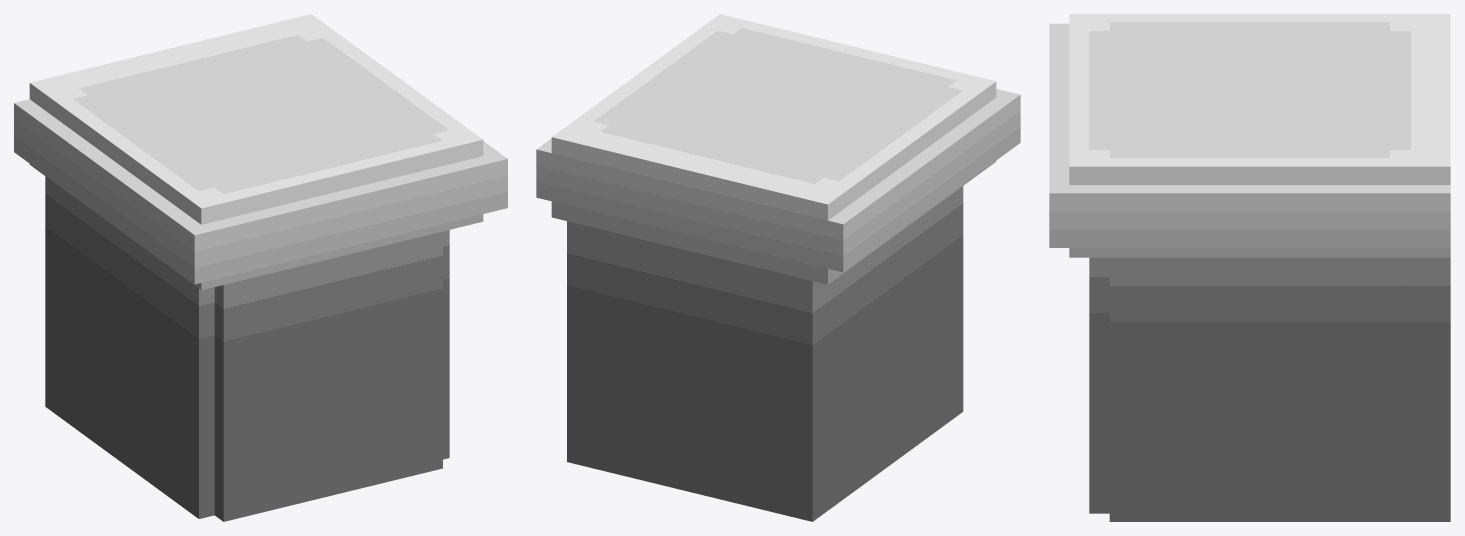
Rendered from full_top_end.glb.
3 views of the same model, side by side, from view 1: azimuth 30°, elevation 25°; view 2: azimuth 150°, elevation 25°; view 3: azimuth 270°, elevation 25° (orthographic). The views are drawn at different scales.
Visible parts, largest first — view 1: full_top_end; view 2: full_top_end; view 3: full_top_end.
Part boxes in pixels (bbox=[...]): full_top_end: bbox=[14, 14, 507, 521]; full_top_end: bbox=[536, 14, 1020, 521]; full_top_end: bbox=[1049, 14, 1450, 521].
Bounding box in the file's own units: 2 × 2 × 2.
Materials: 1 (1 with a texture image).
